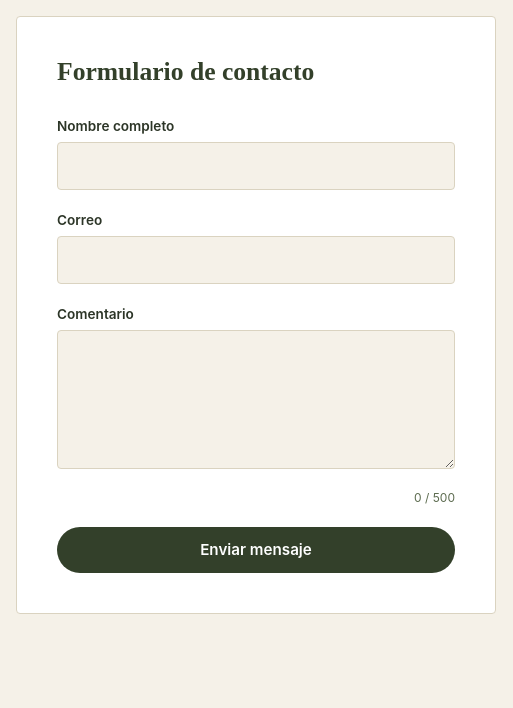
Contacto › exige nombre, correo y comentario (renderizado condicional)
Click the button "Enviar mensaje" at coordinates (256, 550), box [57, 527, 455, 573]
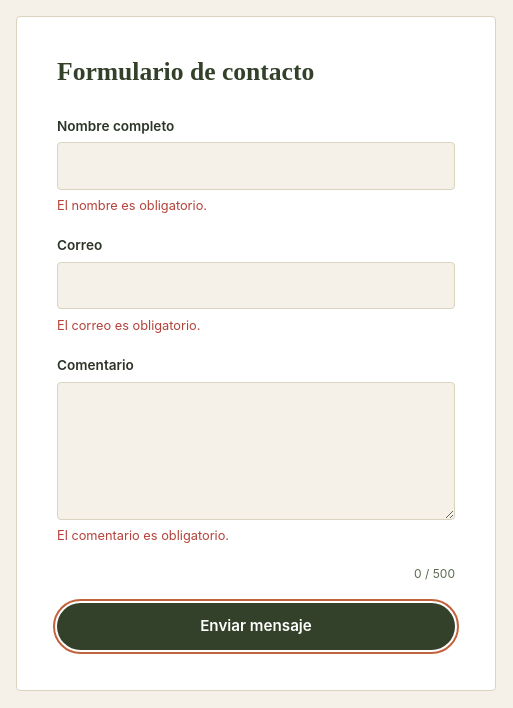
Result: the text "El nombre es obligatorio." is shown at [57, 198, 207, 213]
Result: the text "El correo es obligatorio." is shown at [57, 318, 200, 332]
Result: the text "El comentario es obligatorio." is shown at [57, 528, 229, 543]
